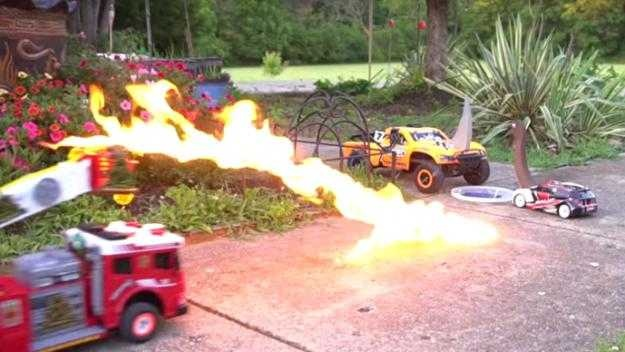Fire Truck: (0, 205, 220, 334)
